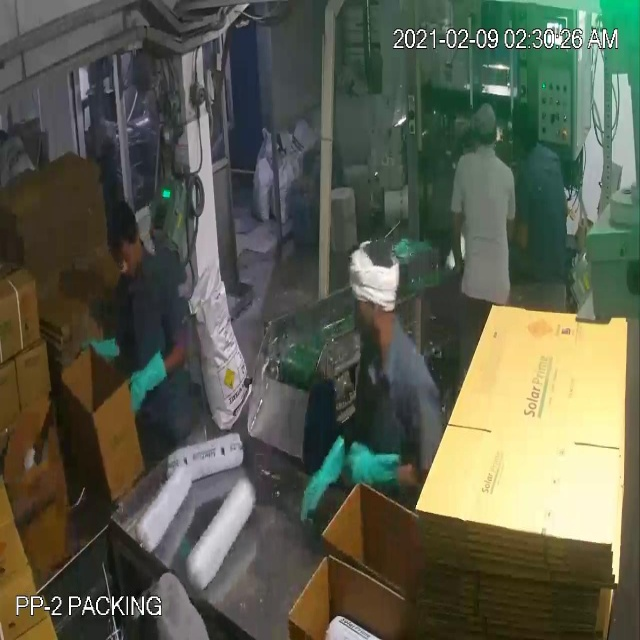Guantes: (298, 420, 345, 525), (345, 431, 408, 503), (123, 348, 171, 421), (74, 320, 126, 378)
Sin_guantes: (445, 196, 472, 282)
